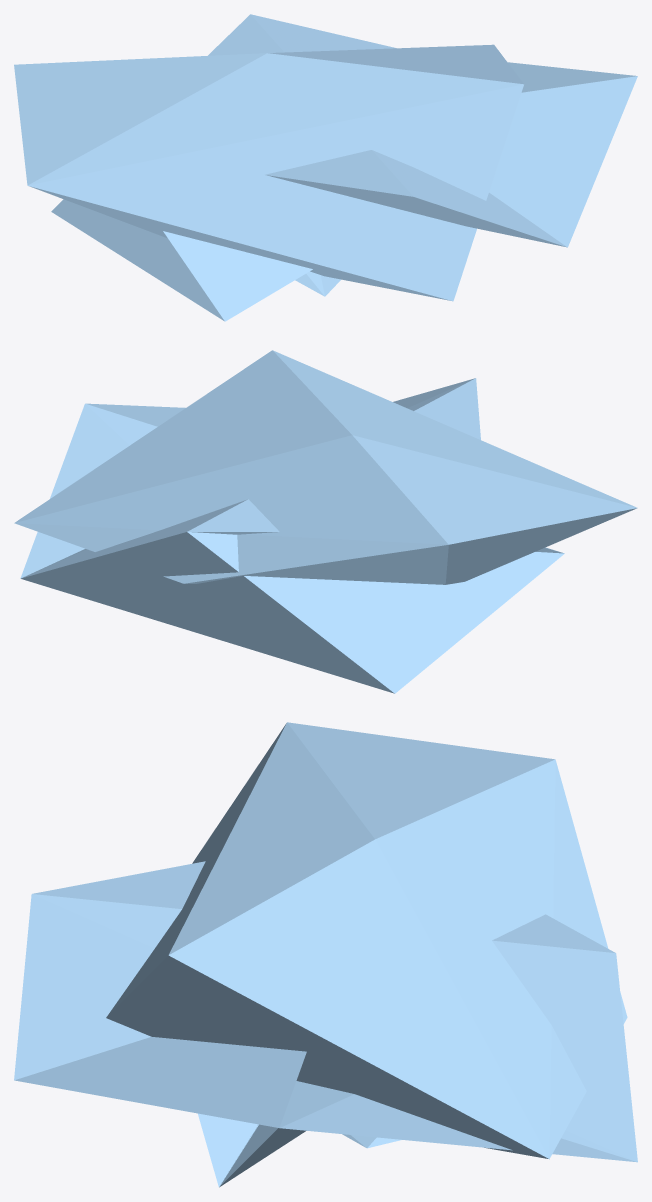
File: judgement-cut-end.glb
The picture shows the model from 3 angles, top to bottom: view 1: azimuth 30°, elevation 25°; view 2: azimuth 150°, elevation 25°; view 3: azimuth 270°, elevation 25°; orthographic projection. The views are drawn at different scales.
Visible parts, largest first — view 1: judgement-cut-end spectral mesh; view 2: judgement-cut-end spectral mesh; view 3: judgement-cut-end spectral mesh.
Part boxes in pixels (<box>): judgement-cut-end spectral mesh: <box>14,14,637,321</box>; judgement-cut-end spectral mesh: <box>14,350,637,693</box>; judgement-cut-end spectral mesh: <box>14,722,637,1187</box>.
Bounding box in the file's own units: 2.8 × 0.9169 × 2.04.
